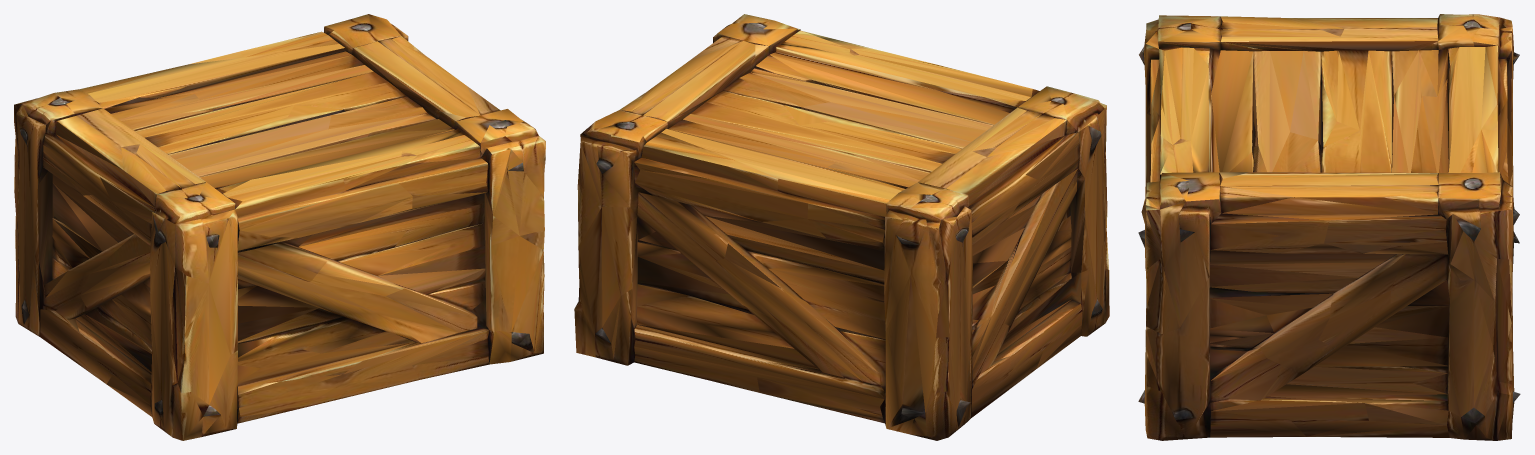
Rendered from crate.glb.
3 views of the same model, side by side, from view 1: azimuth 30°, elevation 25°; view 2: azimuth 150°, elevation 25°; view 3: azimuth 270°, elevation 25° (orthographic). The views are drawn at different scales.
Visible parts, largest first — view 1: TripoCrate_Mesh; view 2: TripoCrate_Mesh; view 3: TripoCrate_Mesh.
Boxes of the visible parts, x1,y1,x2,y2 form: TripoCrate_Mesh: (14,14,545,440); TripoCrate_Mesh: (574,14,1109,440); TripoCrate_Mesh: (1138,14,1520,440).
Size of the model in its own units: 1.5 by 0.85 by 1.2.
1 material, 1 textured.
